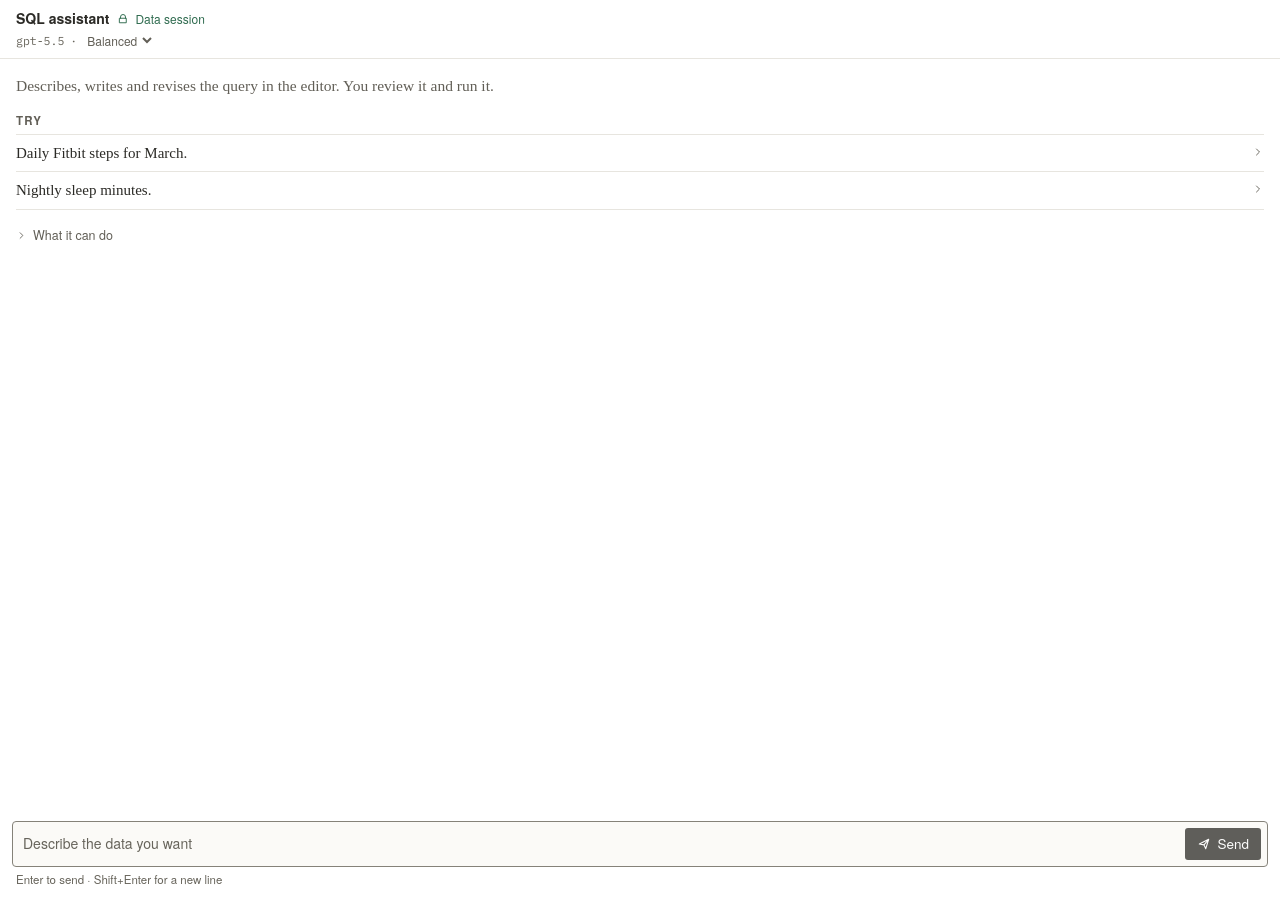
gives the sql tab's chat a compact intro: a title, one sentence, its starters, and what it can do folded
The image size is (1280, 900).
expect the heading "SQL assistant" is shown: met, box [16,8,109,29]
expect the element with test id "compact-intro" reads "Describes, writes and revises the query in the editor. You review it and run it.": met, box [16,77,494,94]
Click the button "What it can do": (64, 235) [16,226,113,245]
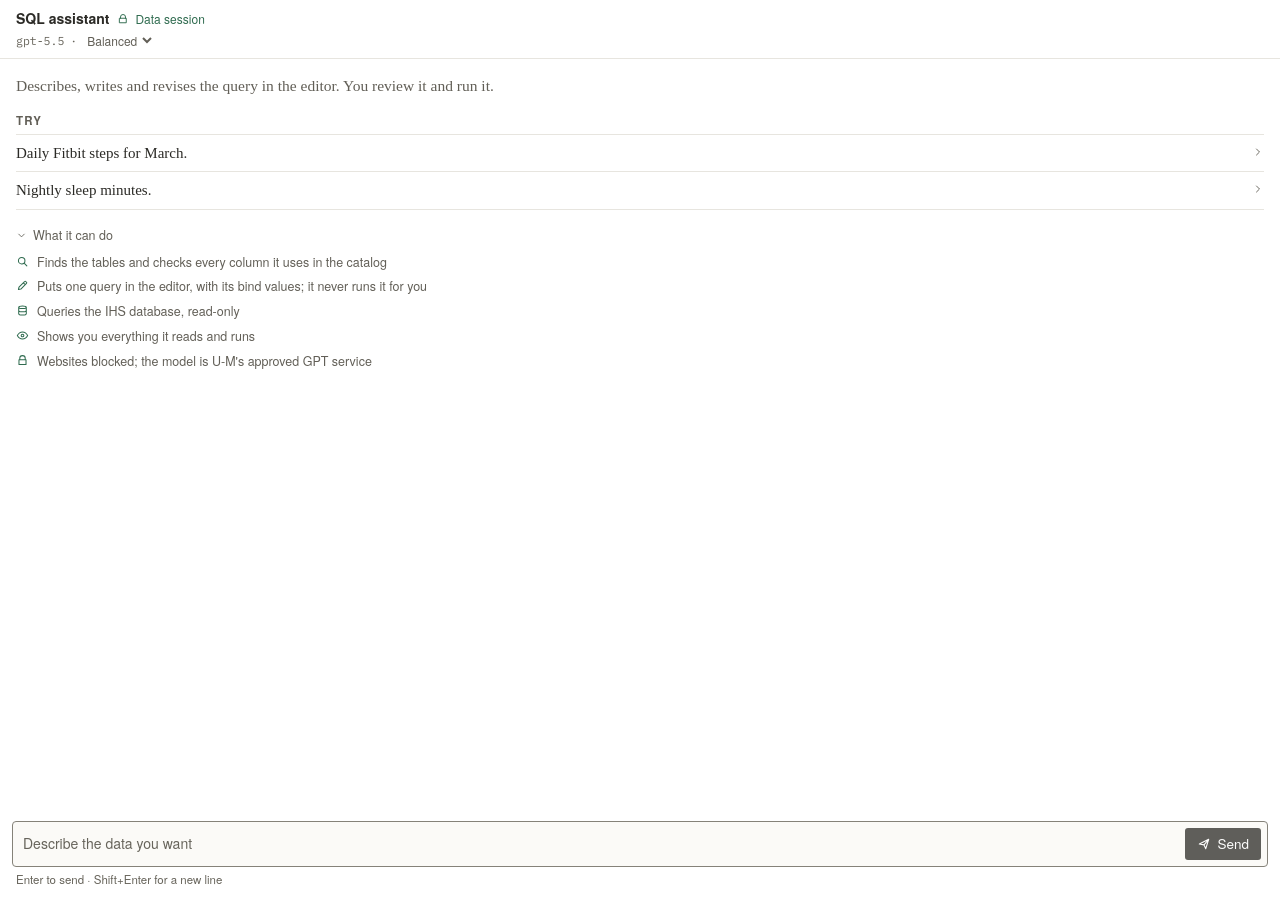
expect the button "What it can do" is expanded: met, box [16,226,113,245]
expect the list item "Finds the tables and checks every column it uses in the catalog" is shown: met, box [16,253,387,271]
expect the list item "Websites blocked; the model is U-M's approved GPT service" is shown: met, box [16,352,372,370]
